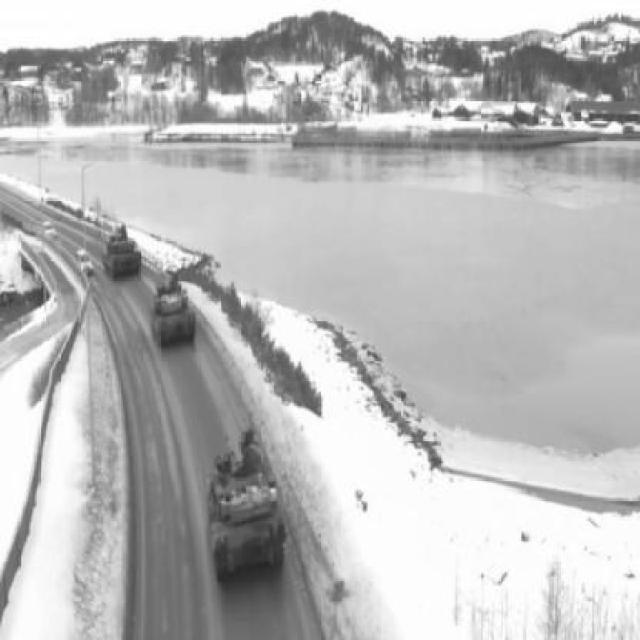Vehicle: (203, 448, 291, 577), (148, 280, 197, 348), (103, 222, 142, 280), (76, 249, 94, 275), (41, 217, 58, 239)
